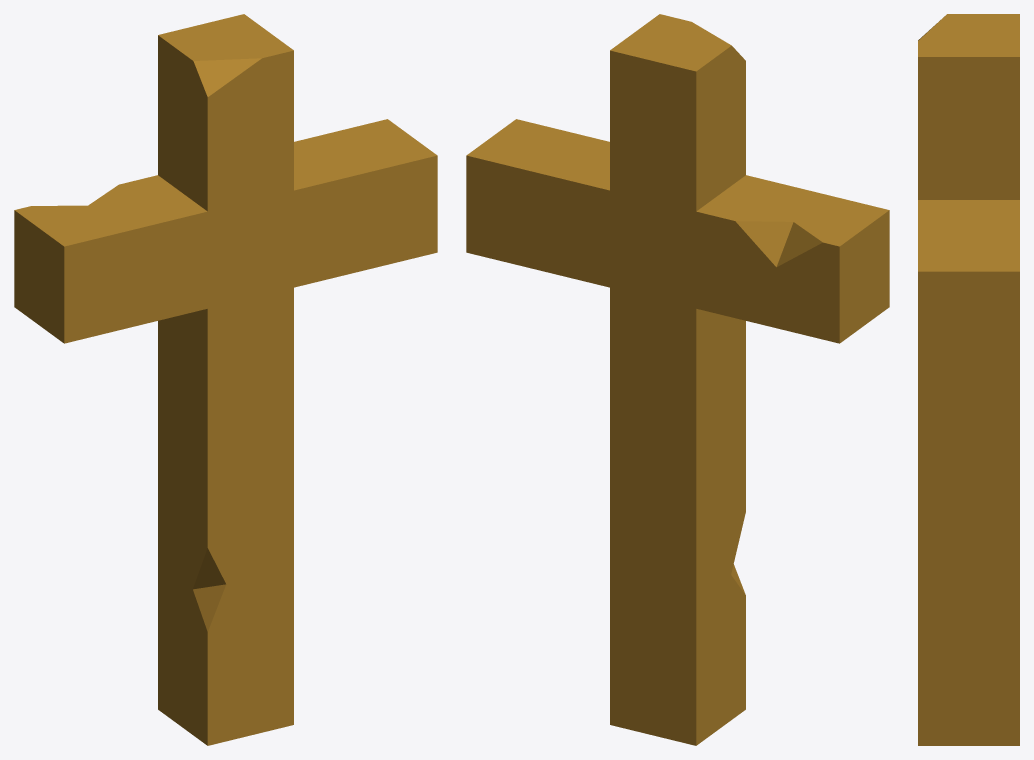
Rendered from LPHorror_Crucifix.fbx.
3 views of the same model, side by side, from view 1: azimuth 30°, elevation 25°; view 2: azimuth 150°, elevation 25°; view 3: azimuth 270°, elevation 25° (orthographic). The views are drawn at different scales.
Parts seen in each view (by area): view 1: Crucifix; view 2: Crucifix; view 3: Crucifix.
Part boxes in pixels (x1,y1,x2,y2): Crucifix: (14,14,437,745); Crucifix: (466,14,889,745); Crucifix: (918,14,1019,745).
Size of the model in its own units: 25.57 by 44.14 by 5.91.
